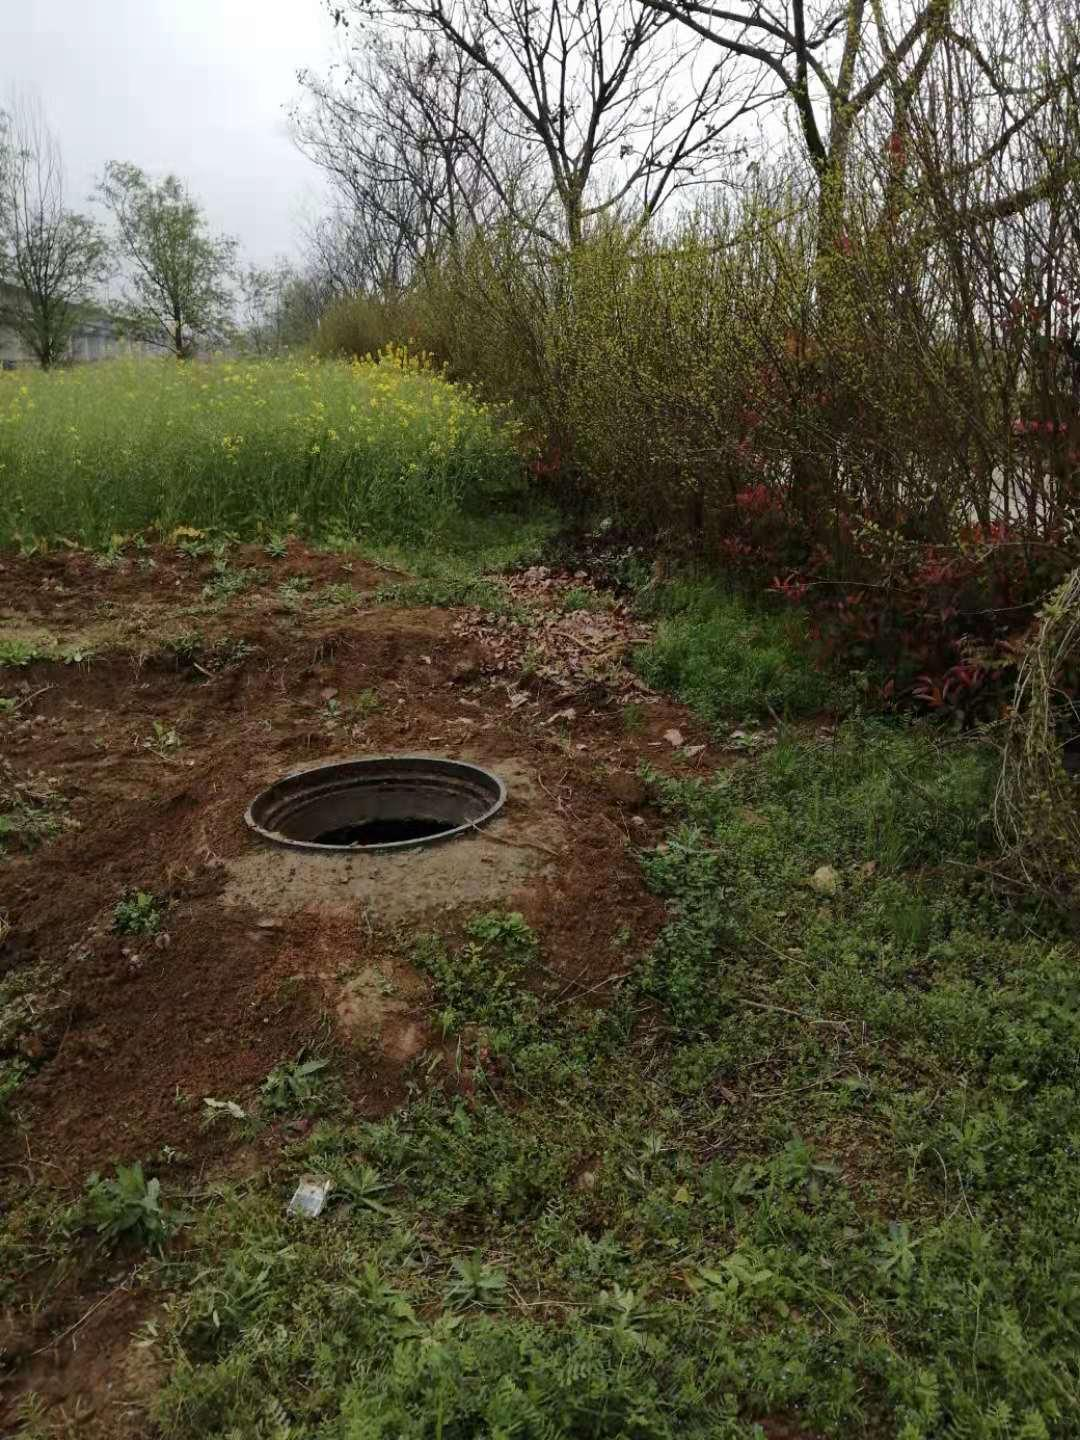wellcover: (176, 731, 590, 938)
